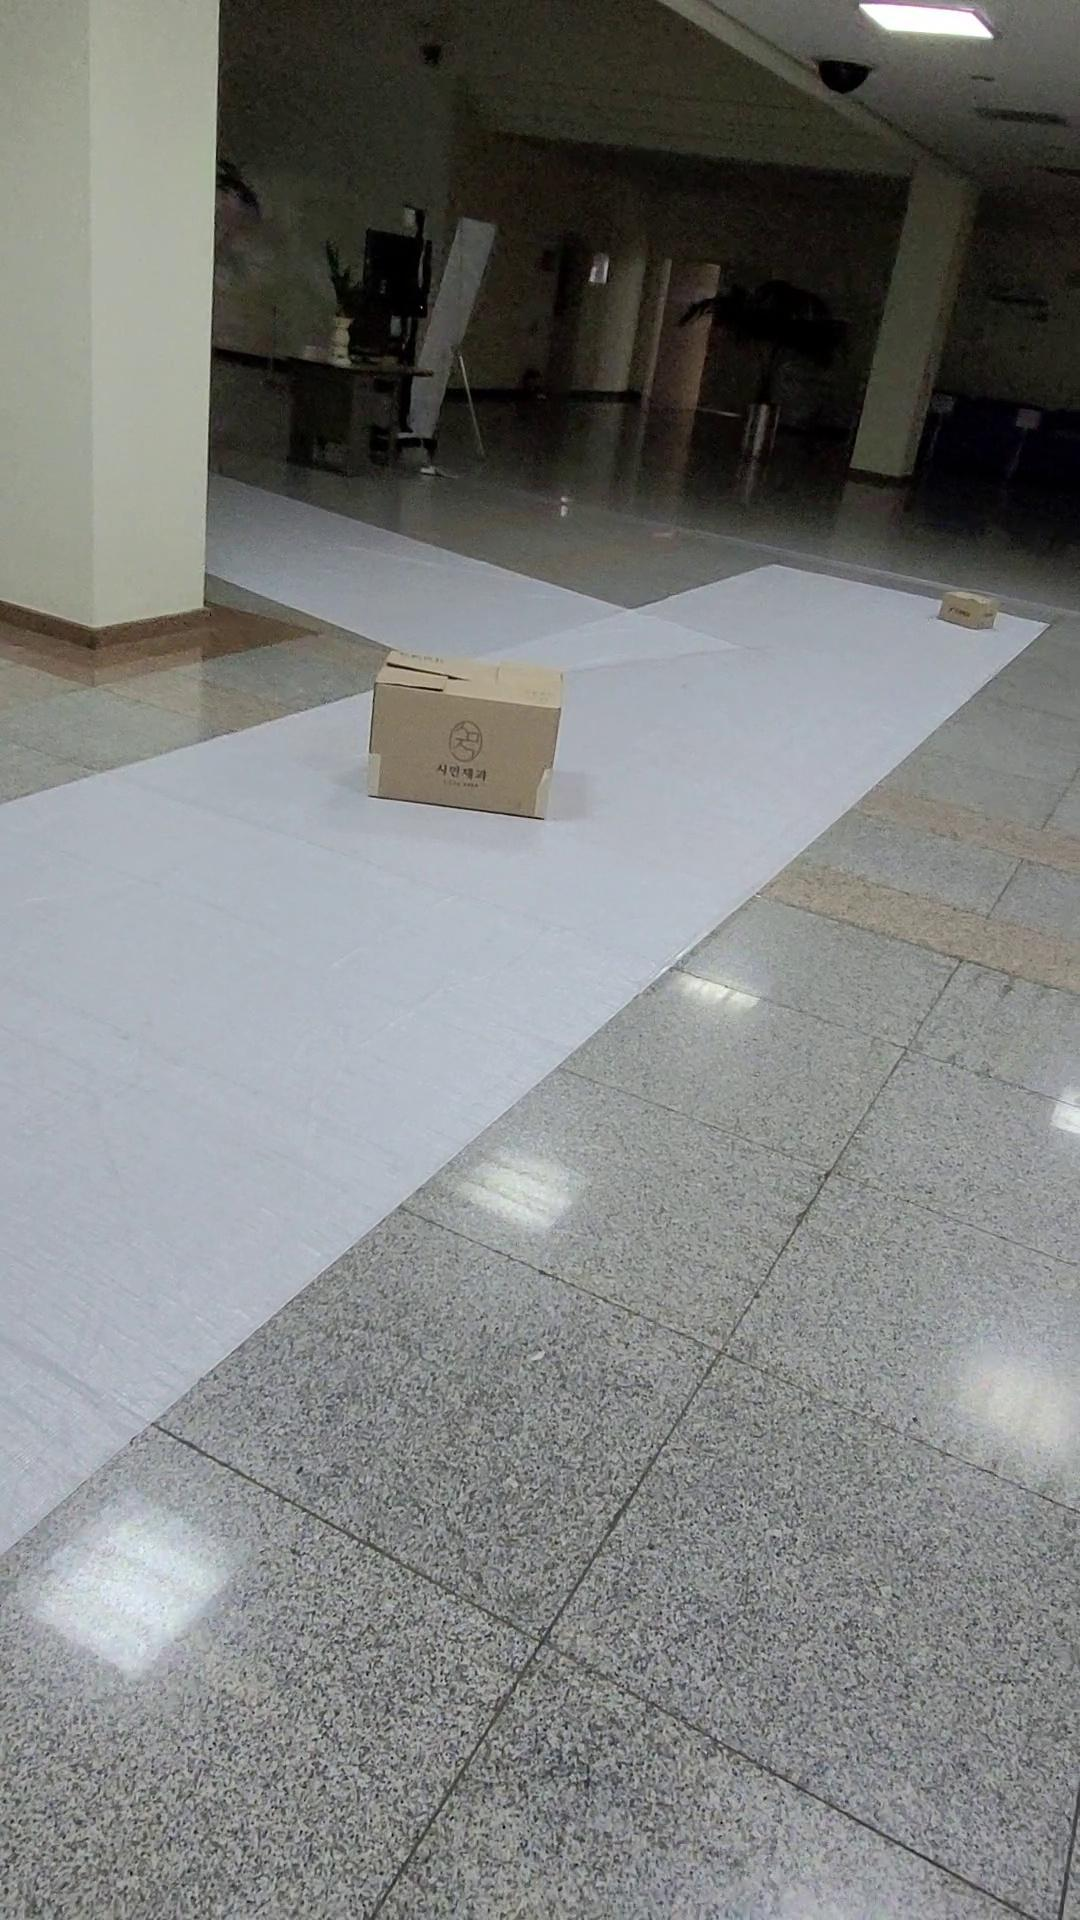Box: (361, 630, 611, 851), (881, 574, 1021, 659)
